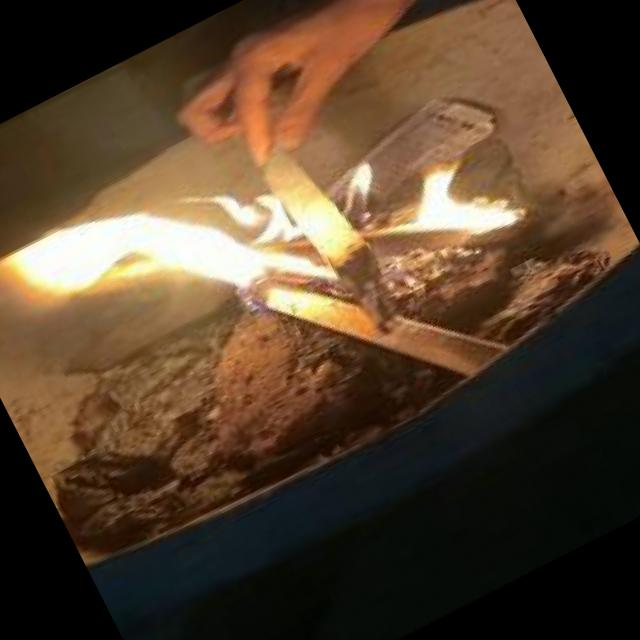fire: (0, 36, 536, 467)
